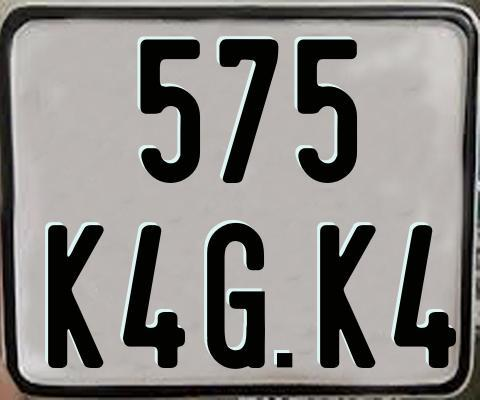4: (123, 222, 189, 367), (391, 225, 454, 368)
5: (137, 39, 203, 184), (296, 37, 359, 187)
7: (217, 39, 282, 186)
G: (207, 222, 270, 368)
K: (318, 223, 377, 369), (47, 222, 103, 366)
